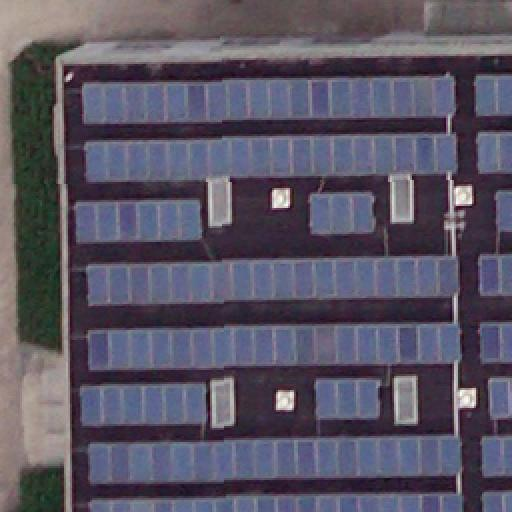solar-panel: (81, 256, 455, 308), (81, 74, 455, 126), (81, 135, 455, 185), (85, 434, 459, 482), (85, 324, 459, 372), (85, 492, 459, 512), (82, 201, 202, 247), (85, 383, 211, 425), (314, 378, 378, 418), (473, 129, 511, 175), (473, 75, 511, 117), (476, 254, 512, 294), (480, 435, 512, 477), (480, 319, 512, 361), (488, 375, 512, 417), (481, 488, 511, 512), (496, 192, 512, 232)
